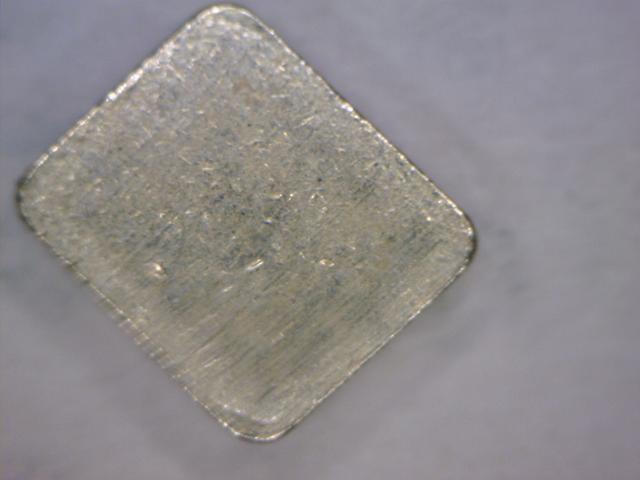ok: (8, 3, 480, 448)
